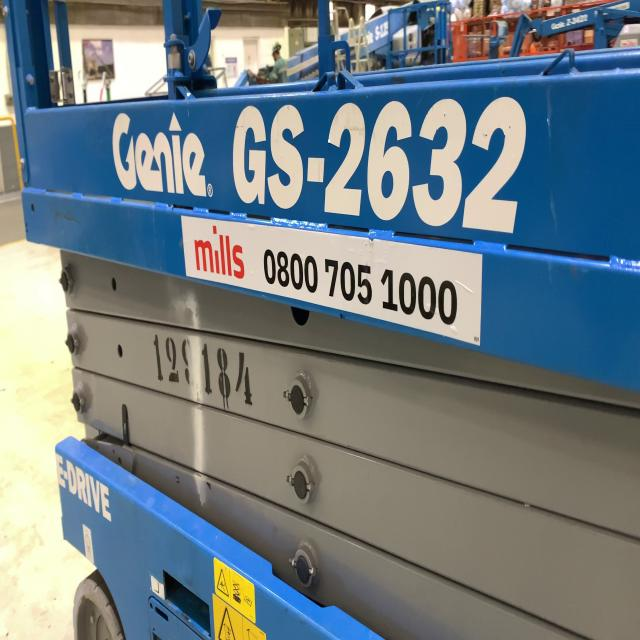Adesivo Longo: (179, 212, 485, 348)
